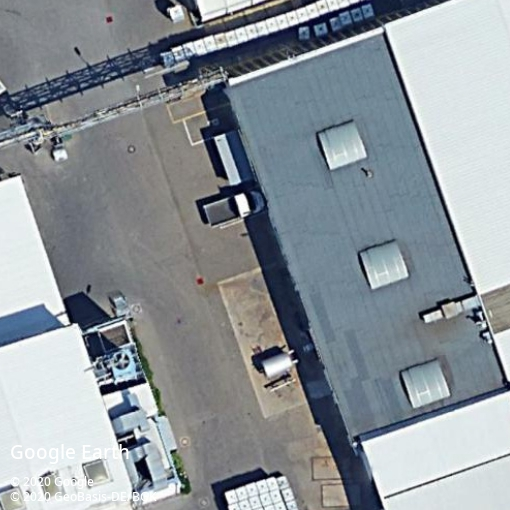Vent: (113, 352, 130, 369)
